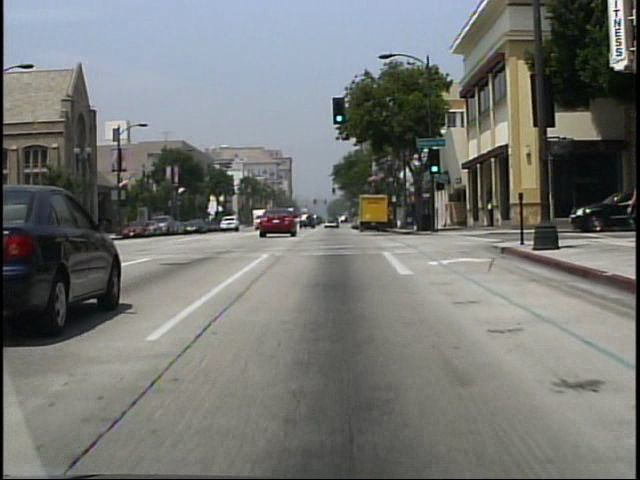person: (485, 195, 496, 230)
